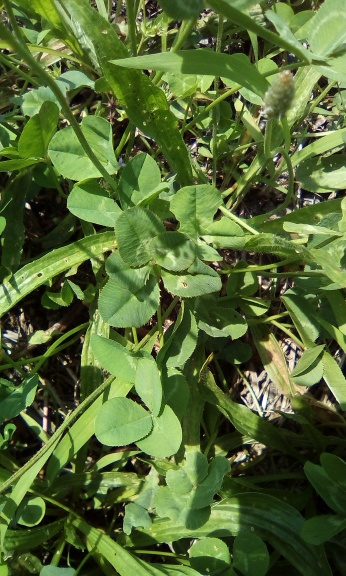4leaf: (97, 205, 222, 329)
